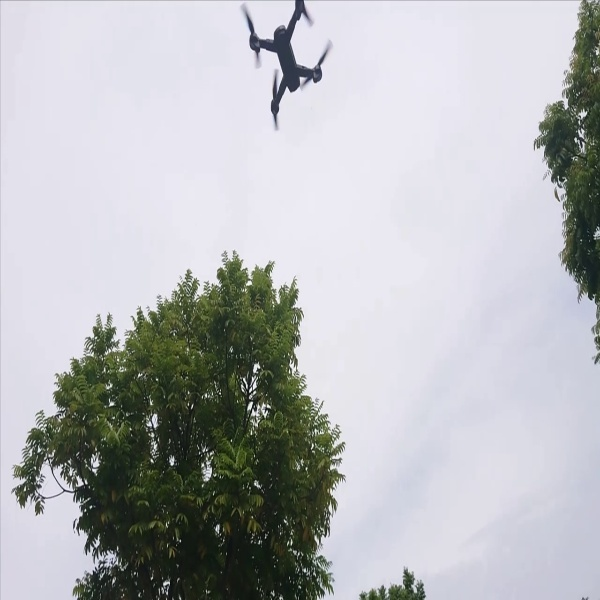drone: (230, 1, 343, 133)
